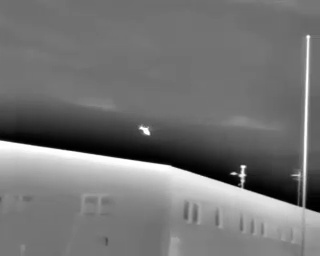HELICOPTER: (137, 121, 159, 141)
